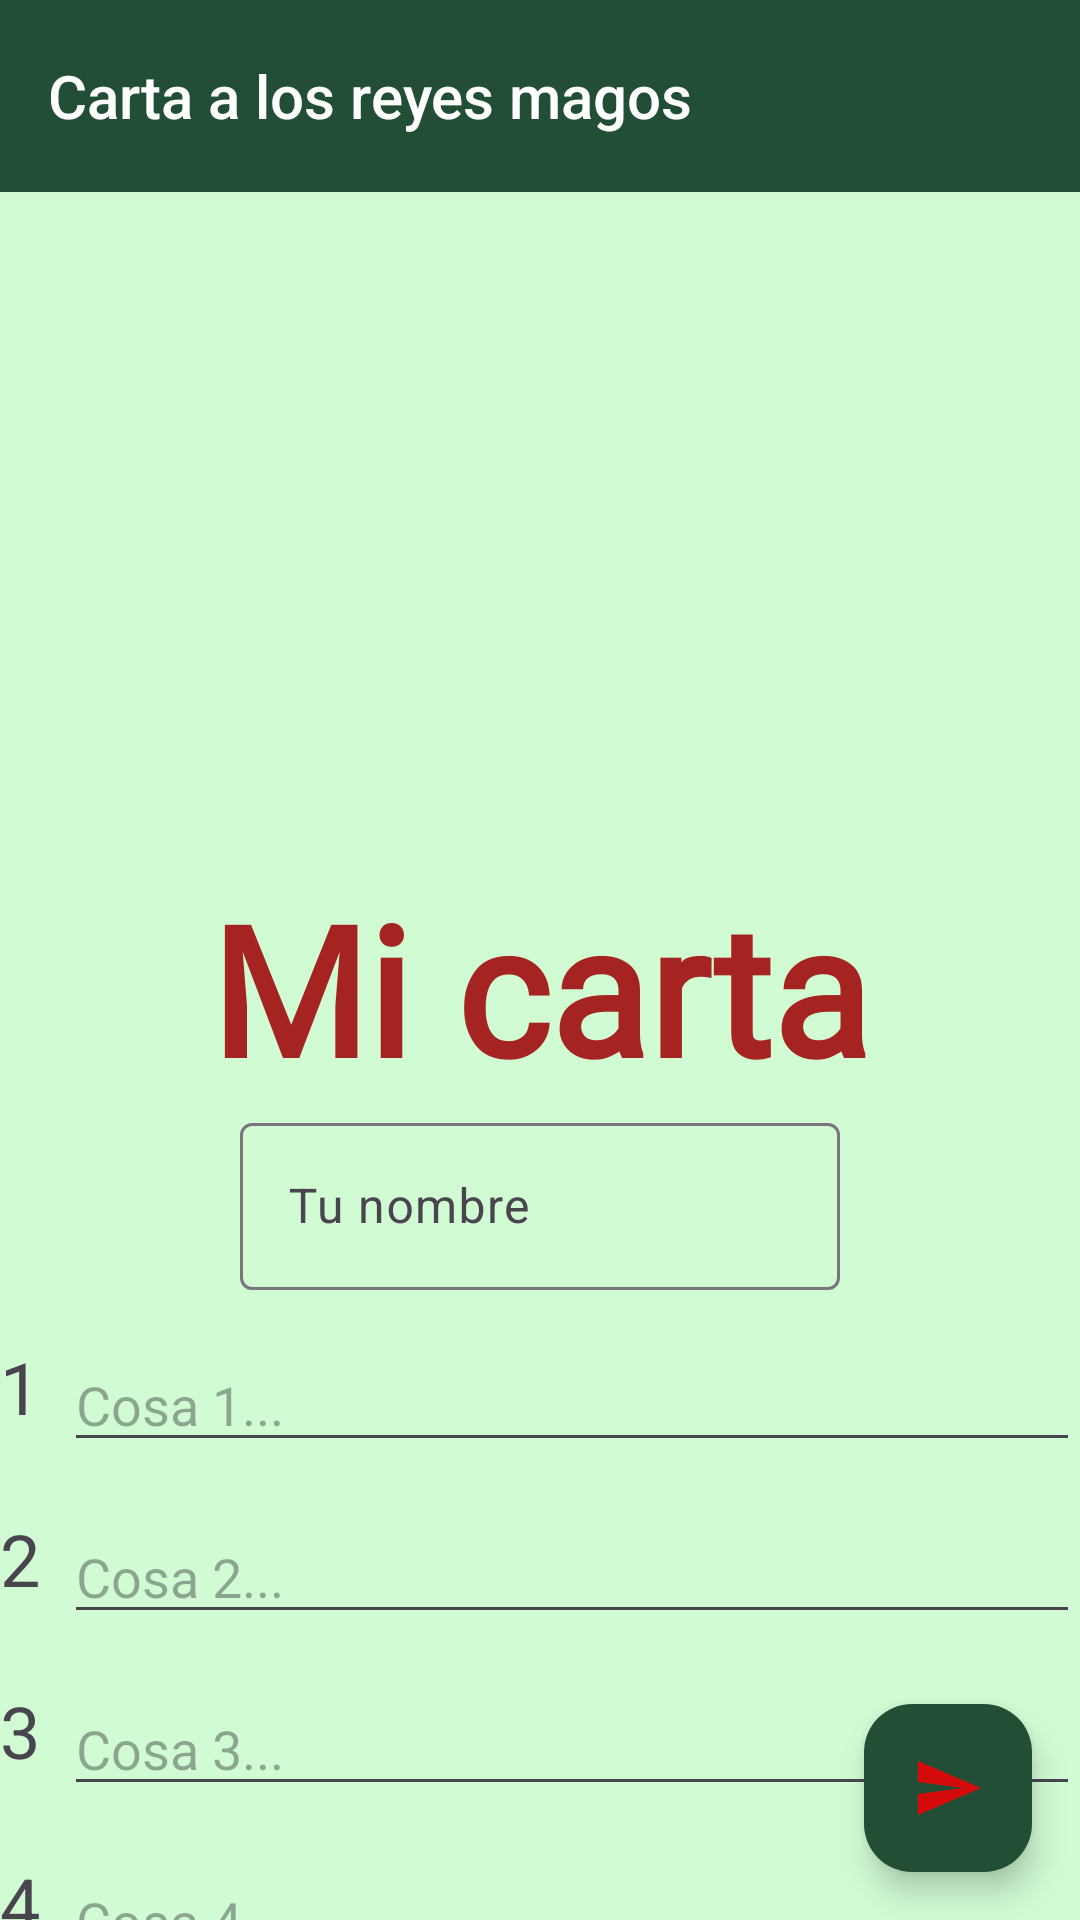

Screen size 1080x1920. Icon name, then its center in pixels as [x,y]:
Enviar carta: [948,1788]
